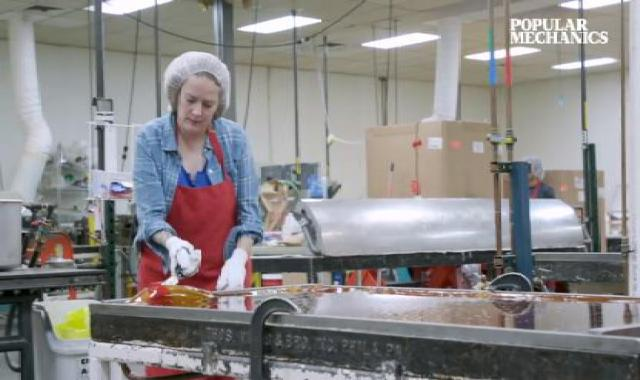hairnet: (150, 52, 243, 129)
